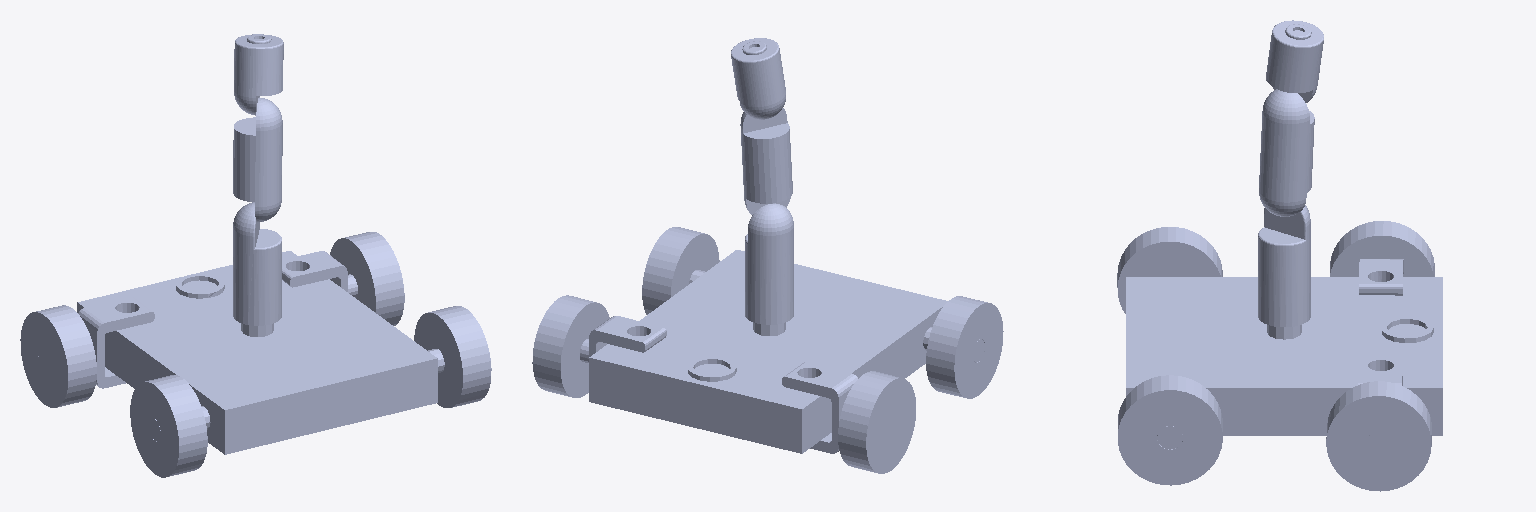
robot.urdf — fire_fight_1:
<?xml version="1.0" ?>
<!-- =================================================================================== -->
<!-- |    This document was autogenerated by xacro from fire_fight_1.xacro             | -->
<!-- |    EDITING THIS FILE BY HAND IS NOT RECOMMENDED                                 | -->
<!-- =================================================================================== -->
<!-- Name your robot here -->
<robot name="fire_fight_1">
  <link name="dummy">
  </link>
  <joint name="dummy_joint" type="fixed">
    <parent link="dummy"/>
    <child link="Chassis"/>
  </joint>
  <link name="Chassis">
    <inertial>
      <origin rpy="0 0 0" xyz="0 -0.0041296 -0.03787"/>
      <mass value="13.365"/>
      <inertia ixx="0.2401" ixy="-2.8219E-17" ixz="-3.2291E-19" iyy="0.17437" iyz="-0.00011945" izz="0.40145"/>
    </inertial>
    <visual>
      <origin rpy="0 0 0" xyz="0 0 0"/>
      <geometry>
        <mesh filename="package://fire_fight_1/meshes/Chassis.STL"/>
      </geometry>
      <material name="">
        <color rgba="0.79216 0.81961 0.93333 1"/>
      </material>
    </visual>
    <collision>
      <origin rpy="0 0 0" xyz="0 0 0"/>
      <geometry>
        <mesh filename="package://fire_fight_1/meshes/Chassis.STL"/>
      </geometry>
    </collision>
  </link>
  <link name="A_link1">
    <inertial>
      <origin rpy="0 0 0" xyz="-0.0018147 0.001304 0.079067"/>
      <mass value="0.70683"/>
      <inertia ixx="0.0018663" ixy="-1.5681E-06" ixz="9.6484E-05" iyy="0.0018653" iyz="-6.9333E-05" izz="0.00050046"/>
    </inertial>
    <visual>
      <origin rpy="0 0 0" xyz="0 0 0"/>
      <geometry>
        <mesh filename="package://fire_fight_1/meshes/A_link1.STL"/>
      </geometry>
      <material name="">
        <color rgba="0.79216 0.81961 0.93333 1"/>
      </material>
    </visual>
    <collision>
      <origin rpy="0 0 0" xyz="0 0 0"/>
      <geometry>
        <mesh filename="package://fire_fight_1/meshes/A_link1.STL"/>
      </geometry>
    </collision>
  </link>
  <joint name="A1" type="revolute">
    <origin rpy="0 0 0" xyz="0 0 0.0254"/>
    <parent link="Chassis"/>
    <child link="A_link1"/>
    <axis xyz="0 0 1"/>
    <limit effort="1000" lower="0" upper="3.14" velocity="1"/>
  </joint>
  <link name="A_link2">
    <inertial>
      <origin rpy="0 0 0" xyz="0.0044859 0.088677 0.0033545"/>
      <mass value="0.66025"/>
      <inertia ixx="0.0015864" ixy="-5.7236E-05" ixz="-1.2367E-08" iyy="0.00045786" iyz="-2.4447E-07" izz="0.0015967"/>
    </inertial>
    <visual>
      <origin rpy="0 0 0" xyz="0 0 0"/>
      <geometry>
        <mesh filename="package://fire_fight_1/meshes/A_link2.STL"/>
      </geometry>
      <material name="">
        <color rgba="0.79216 0.81961 0.93333 1"/>
      </material>
    </visual>
    <collision>
      <origin rpy="0 0 0" xyz="0 0 0"/>
      <geometry>
        <mesh filename="package://fire_fight_1/meshes/A_link2.STL"/>
      </geometry>
    </collision>
  </link>
  <joint name="A2" type="revolute">
    <origin rpy="1.5708 0 0.94776" xyz="0 0 0.17526"/>
    <parent link="A_link1"/>
    <child link="A_link2"/>
    <axis xyz="0 0 1"/>
    <limit effort="1000" lower="-1.57" upper="1.57" velocity="1"/>
  </joint>
  <link name="A_link3">
    <inertial>
      <origin rpy="0 0 0" xyz="-0.0090929 0.061252 0.0021704"/>
      <mass value="0.42671"/>
      <inertia ixx="0.00050673" ixy="3.118E-05" ixz="-6.1988E-06" iyy="0.00030132" iyz="4.1756E-05" izz="0.00051337"/>
    </inertial>
    <visual>
      <origin rpy="0 0 0" xyz="0 0 0"/>
      <geometry>
        <mesh filename="package://fire_fight_1/meshes/A_link3.STL"/>
      </geometry>
      <material name="">
        <color rgba="0.79216 0.81961 0.93333 1"/>
      </material>
    </visual>
    <collision>
      <origin rpy="0 0 0" xyz="0 0 0"/>
      <geometry>
        <mesh filename="package://fire_fight_1/meshes/A_link3.STL"/>
      </geometry>
    </collision>
  </link>
  <joint name="A3" type="revolute">
    <origin rpy="3.1416 0 3.1416" xyz="0.0088546 0.17504 0"/>
    <parent link="A_link2"/>
    <child link="A_link3"/>
    <axis xyz="0 0 1"/>
    <limit effort="1000" lower="-1.57" upper="1.57" velocity="1"/>
  </joint>
  <link name="Holder_1">
    <inertial>
      <origin rpy="0 0 0" xyz="-0.05393 0.0007167 -0.0381"/>
      <mass value="0.3321"/>
      <inertia ixx="0.00054535" ixy="7.1707E-06" ixz="6.4297E-19" iyy="0.0010848" iyz="-1.7651E-20" izz="0.00074013"/>
    </inertial>
    <visual>
      <origin rpy="0 0 0" xyz="0 0 0"/>
      <geometry>
        <mesh filename="package://fire_fight_1/meshes/Holder_1.STL"/>
      </geometry>
      <material name="">
        <color rgba="0.79216 0.81961 0.93333 1"/>
      </material>
    </visual>
    <collision>
      <origin rpy="0 0 0" xyz="0 0 0"/>
      <geometry>
        <mesh filename="package://fire_fight_1/meshes/Holder_1.STL"/>
      </geometry>
    </collision>
  </link>
  <joint name="H1" type="revolute">
    <origin rpy="0 0 0" xyz="-0.1524 0.1397 0"/>
    <parent link="Chassis"/>
    <child link="Holder_1"/>
    <axis xyz="0 0 -1"/>
    <limit effort="1000" lower="-1.75" upper="1.75" velocity="1"/>
  </joint>
  <link name="Wheel">
    <inertial>
      <origin rpy="0 0 0" xyz="0 0 -1.3878E-17"/>
      <mass value="0.86875"/>
      <inertia ixx="0.0015267" ixy="5.1618E-20" ixz="-3.3881E-21" iyy="0.0015267" iyz="-8.1367E-21" izz="0.0026798"/>
    </inertial>
    <visual>
      <origin rpy="0 0 0" xyz="0 0 0"/>
      <geometry>
        <mesh filename="package://fire_fight_1/meshes/Wheel.STL"/>
      </geometry>
      <material name="">
        <color rgba="0.79216 0.81961 0.93333 1"/>
      </material>
    </visual>
    <collision>
      <origin rpy="0 0 0" xyz="0 0 0"/>
      <geometry>
        <mesh filename="package://fire_fight_1/meshes/Wheel.STL"/>
      </geometry>
    </collision>
  </link>
  <joint name="W1" type="continuous">
    <origin rpy="1.5708 0 -1.5841" xyz="-0.12191 0.0016201 -0.0381"/>
    <parent link="Holder_1"/>
    <child link="Wheel"/>
    <axis xyz="0 0 1"/>
  </joint>
  <link name="Holder_2">
    <inertial>
      <origin rpy="0 0 0" xyz="0.053923 -0.0011082 -0.0381"/>
      <mass value="0.3321"/>
      <inertia ixx="0.00054548" ixy="1.1087E-05" ixz="-4.6956E-19" iyy="0.0010847" iyz="6.2287E-20" izz="0.00074013"/>
    </inertial>
    <visual>
      <origin rpy="0 0 0" xyz="0 0 0"/>
      <geometry>
        <mesh filename="package://fire_fight_1/meshes/Holder_2.STL"/>
      </geometry>
      <material name="">
        <color rgba="0.79216 0.81961 0.93333 1"/>
      </material>
    </visual>
    <collision>
      <origin rpy="0 0 0" xyz="0 0 0"/>
      <geometry>
        <mesh filename="package://fire_fight_1/meshes/Holder_2.STL"/>
      </geometry>
    </collision>
  </link>
  <joint name="H2" type="revolute">
    <origin rpy="0 0 0" xyz="0.1524 0.1397 0"/>
    <parent link="Chassis"/>
    <child link="Holder_2"/>
    <axis xyz="0 0 -1"/>
    <limit effort="1000" lower="-1.75" upper="1.75" velocity="1"/>
  </joint>
  <link name="Wheel2">
    <inertial>
      <origin rpy="0 0 0" xyz="0 0 0"/>
      <mass value="0.86875"/>
      <inertia ixx="0.0015267" ixy="6.5227E-20" ixz="2.7105E-20" iyy="0.0015267" iyz="-1.208E-19" izz="0.0026798"/>
    </inertial>
    <visual>
      <origin rpy="0 0 0" xyz="0 0 0"/>
      <geometry>
        <mesh filename="package://fire_fight_1/meshes/Wheel2.STL"/>
      </geometry>
      <material name="">
        <color rgba="0.79216 0.81961 0.93333 1"/>
      </material>
    </visual>
    <collision>
      <origin rpy="0 0 0" xyz="0 0 0"/>
      <geometry>
        <mesh filename="package://fire_fight_1/meshes/Wheel2.STL"/>
      </geometry>
    </collision>
  </link>
  <joint name="W2" type="continuous">
    <origin rpy="1.5708 0 1.5502" xyz="0.12189 -0.0025052 -0.0381"/>
    <parent link="Holder_2"/>
    <child link="Wheel2"/>
    <axis xyz="0 0 1"/>
  </joint>
  <link name="Wheel3">
    <inertial>
      <origin rpy="0 0 0" xyz="0 0 -1.3878E-17"/>
      <mass value="0.86875"/>
      <inertia ixx="0.0015267" ixy="1.0688E-19" ixz="1.1392E-19" iyy="0.0015267" iyz="9.6195E-20" izz="0.0026798"/>
    </inertial>
    <visual>
      <origin rpy="0 0 0" xyz="0 0 0"/>
      <geometry>
        <mesh filename="package://fire_fight_1/meshes/Wheel3.STL"/>
      </geometry>
      <material name="">
        <color rgba="0.79216 0.81961 0.93333 1"/>
      </material>
    </visual>
    <collision>
      <origin rpy="0 0 0" xyz="0 0 0"/>
      <geometry>
        <mesh filename="package://fire_fight_1/meshes/Wheel3.STL"/>
      </geometry>
    </collision>
  </link>
  <joint name="W3" type="continuous">
    <origin rpy="-1.5708 0 1.5708" xyz="-0.254 -0.1651 -0.0381"/>
    <parent link="Chassis"/>
    <child link="Wheel3"/>
    <axis xyz="0 0 1"/>
  </joint>
  <link name="Wheel4">
    <inertial>
      <origin rpy="0 0 0" xyz="-5.5511E-17 5.5511E-17 0"/>
      <mass value="0.86875"/>
      <inertia ixx="0.0015267" ixy="7.1188E-20" ixz="-1.1577E-19" iyy="0.0015267" iyz="6.95E-20" izz="0.0026798"/>
    </inertial>
    <visual>
      <origin rpy="0 0 0" xyz="0 0 0"/>
      <geometry>
        <mesh filename="package://fire_fight_1/meshes/Wheel4.STL"/>
      </geometry>
      <material name="">
        <color rgba="0.79216 0.81961 0.93333 1"/>
      </material>
    </visual>
    <collision>
      <origin rpy="0 0 0" xyz="0 0 0"/>
      <geometry>
        <mesh filename="package://fire_fight_1/meshes/Wheel4.STL"/>
      </geometry>
    </collision>
  </link>
  <joint name="W4" type="continuous">
    <origin rpy="1.5708 0 1.5708" xyz="0.254 -0.1651 -0.0381"/>
    <parent link="Chassis"/>
    <child link="Wheel4"/>
    <axis xyz="0 0 1"/>
  </joint>
  <link name="base_laser">
    <inertial>
      <origin rpy="0 0 0" xyz="-0.00029774 0.0066667 0.00013047"/>
      <mass value="0.15717"/>
      <inertia ixx="6.7885E-05" ixy="-1.3987E-07" ixz="-8.1554E-07" iyy="0.00013173" iyz="-9.0932E-08" izz="7.1972E-05"/>
    </inertial>
    <visual>
      <origin rpy="0 0 0" xyz="0 0 0"/>
      <geometry>
        <mesh filename="package://fire_fight_1/meshes/ydlidar.dae"/>
      </geometry>
      <material name="">
        <color rgba="0.64706 0.61961 0.58824 1"/>
      </material>
    </visual>
    <collision>
      <origin rpy="0 0 0" xyz="0 0 0"/>
      <geometry>
        <mesh filename="package://fire_fight_1/meshes/ydlidar.dae"/>
      </geometry>
    </collision>
  </link>
  <link name="laser_frame">
    <inertial>
      <origin rpy="0 0 0" xyz="-0.00036659 0.00064155 -0.00027052"/>
      <mass value="0.25482"/>
      <inertia ixx="8.9194E-05" ixy="1.8116E-07" ixz="3.6435E-08" iyy="0.00018279" iyz="2.423E-07" izz="0.00011103"/>
    </inertial>
    <visual>
      <origin rpy="0 0 0" xyz="0 0 0"/>
      <geometry>
        <mesh filename="package://fire_fight_1/meshes/ydlidar.dae"/>
      </geometry>
      <material name="">
        <color rgba="0.64706 0.61961 0.58824 1"/>
      </material>
    </visual>
    <collision>
      <origin rpy="0 0 0" xyz="0 0 0"/>
      <geometry>
        <mesh filename="package://fire_fight_1/meshes/ydlidar.dae"/>
      </geometry>
    </collision>
  </link>
  <joint name="laser_joint" type="fixed">
    <origin rpy="0 0 0" xyz="0 0 0.03172"/>
    <parent link="base_laser"/>
    <child link="laser_frame"/>
    <axis xyz="0 0 0"/>
  </joint>
  <transmission name="RWD_left">
    <type>transmission_interface/SimpleTransmission</type>
    <joint name="W3">
      <hardwareInterface>hardware_interface/VelocityJointInterface</hardwareInterface>
    </joint>
    <actuator name="RWD_left_Motor">
      <mechanicalReduction>50</mechanicalReduction>
      <hardwareInterface>hardware_interface/VelocityJointInterface</hardwareInterface>
    </actuator>
  </transmission>
  <transmission name="RWD_Right">
    <type>transmission_interface/SimpleTransmission</type>
    <joint name="W4">
      <hardwareInterface>hardware_interface/VelocityJointInterface</hardwareInterface>
    </joint>
    <actuator name="RWD_Right_Motor">
      <mechanicalReduction>50</mechanicalReduction>
      <hardwareInterface>hardware_interface/VelocityJointInterface</hardwareInterface>
    </actuator>
  </transmission>
  <transmission name="FWD_Right">
    <type>transmission_interface/SimpleTransmission</type>
    <joint name="W2">
      <hardwareInterface>hardware_interface/EffortJointInterface</hardwareInterface>
    </joint>
    <actuator name="FWD_Right_Motor">
      <mechanicalReduction>50</mechanicalReduction>
      <hardwareInterface>hardware_interface/EffortJointInterface</hardwareInterface>
    </actuator>
  </transmission>
  <transmission name="FWD_Left">
    <type>transmission_interface/SimpleTransmission</type>
    <joint name="W1">
      <hardwareInterface>hardware_interface/EffortJointInterface</hardwareInterface>
    </joint>
    <actuator name="FWD_Left_Motor">
      <mechanicalReduction>50</mechanicalReduction>
      <hardwareInterface>hardware_interface/EffortJointInterface</hardwareInterface>
    </actuator>
  </transmission>
  <transmission name="Steer_Left">
    <type>transmission_interface/SimpleTransmission</type>
    <joint name="H1">
      <hardwareInterface>hardware_interface/PositionJointInterface</hardwareInterface>
    </joint>
    <actuator name="H1_Motor">
      <mechanicalReduction>50</mechanicalReduction>
      <hardwareInterface>hardware_interface/PositionJointInterface</hardwareInterface>
    </actuator>
  </transmission>
  <transmission name="Steer_Right">
    <type>transmission_interface/SimpleTransmission</type>
    <joint name="H2">
      <hardwareInterface>hardware_interface/PositionJointInterface</hardwareInterface>
    </joint>
    <actuator name="H2_Motor">
      <mechanicalReduction>50</mechanicalReduction>
      <hardwareInterface>hardware_interface/PositionJointInterface</hardwareInterface>
    </actuator>
  </transmission>
  <transmission name="Arm_1_man">
    <type>transmission_interface/SimpleTransmission</type>
    <joint name="A1">
      <hardwareInterface>hardware_interface/PositionJointInterface</hardwareInterface>
    </joint>
    <actuator name="A1_motor">
      <mechanicalReduction>50</mechanicalReduction>
      <hardwareInterface>hardware_interface/PositionJointInterface</hardwareInterface>
    </actuator>
  </transmission>
  <transmission name="Arm_2_man">
    <type>transmission_interface/SimpleTransmission</type>
    <joint name="A2">
      <hardwareInterface>hardware_interface/PositionJointInterface</hardwareInterface>
    </joint>
    <actuator name="A2_motor">
      <mechanicalReduction>50</mechanicalReduction>
      <hardwareInterface>hardware_interface/PositionJointInterface</hardwareInterface>
    </actuator>
  </transmission>
  <transmission name="Arm_3_man">
    <type>transmission_interface/SimpleTransmission</type>
    <joint name="A3">
      <hardwareInterface>hardware_interface/PositionJointInterface</hardwareInterface>
    </joint>
    <actuator name="A3_motor">
      <mechanicalReduction>50</mechanicalReduction>
      <hardwareInterface>hardware_interface/PositionJointInterface</hardwareInterface>
    </actuator>
  </transmission>
  <!-- Add your gazebo sensors here -->
  <gazebo reference="base_laser">
    <!-- <gravity>true</gravity> -->
    <!-- Gazebo has fixed set of Sensors types. Check them out here <> -->
    <sensor name="laser" type="ray">
      <!-- Add in your sensor characteristics -->
      <pose> 0 0 0 0 0 0 </pose>
      <visualise>true</visualise>
      <update_rate>40</update_rate>
      <!-- <always_on>true</always_on> -->
      <ray>
        <scan>
          <horizontal>
            <samples>720</samples>
            <resolution>1</resolution>
            <min_angle>-1.570796</min_angle>
            <max_angle>1.570796</max_angle>
          </horizontal>
        </scan>
        <range>
          <min>0.10</min>
          <max>30.0</max>
          <resolution>0.01</resolution>
        </range>
        <noise>
          <type>gaussian</type>
          <mean>0.0</mean>
          <stddev>0.01</stddev>
        </noise>
      </ray>
      <plugin filename="libgazebo_ros_laser.so" name="gazebo_ros_head_hokuyo_controller">
        <!-- Use topic name as /my_robot/scan -->
        <topicName>/fire_fight_1/scan</topicName>
        <frameName>laser_frame</frameName>
      </plugin>
    </sensor>
  </gazebo>
  <!--  Gazebo plugin for control here is already added for you -->
  <gazebo>
    <plugin filename="libgazebo_ros_control.so" name="gazebo_ros_control">
      <robotNamespace>/fire_fight_1</robotNamespace>
      <robotSimType>gazebo_ros_control/DefaultRobotHWSim</robotSimType>
      <legacyModeNS>true</legacyModeNS>
    </plugin>
  </gazebo>
  <!-- Create a joint between your robot and sensor -->
  <joint name="laser_frame" type="fixed">
    <parent link="Chassis"/>
    <child link="base_laser"/>
    <origin rpy="0.0 0.0 0" xyz="0 0 0.28"/>
  </joint>
</robot>

--- Facts derived from the render (not from the file) ---
3 views of the same robot in one strip: view 1: azimuth 30°, elevation 25°; view 2: azimuth 150°, elevation 25°; view 3: azimuth 270°, elevation 25° (orthographic).
Model fire_fight_1 with 13 links and 12 joints (5 revolute, 4 continuous, 3 fixed), rooted at dummy, posed all joints at 0.
Links seen in each view (by area): view 1: Chassis, Wheel3, Wheel, Wheel4, A_link1, A_link2, Wheel2, A_link3, Holder_1, Holder_2; view 2: Chassis, Wheel, Wheel3, A_link1, Wheel2, A_link2, Wheel4, A_link3, Holder_1, Holder_2; view 3: Chassis, Wheel2, Wheel4, A_link2, A_link1, Wheel3, Wheel, A_link3, Holder_1, Holder_2.
Link boxes in pixels (x1=…): Chassis: x1=77, y1=251, x2=444, y2=454; Wheel3: x1=130, y1=375, x2=207, y2=477; Wheel: x1=20, y1=305, x2=96, y2=407; Wheel4: x1=414, y1=306, x2=491, y2=407; A_link1: x1=233, y1=202, x2=281, y2=325; A_link2: x1=233, y1=97, x2=282, y2=221; Wheel2: x1=330, y1=232, x2=404, y2=325; A_link3: x1=234, y1=34, x2=283, y2=115; Holder_1: x1=39, y1=297, x2=154, y2=388; Holder_2: x1=282, y1=251, x2=357, y2=297; Chassis: x1=589, y1=250, x2=984, y2=453; Wheel: x1=838, y1=371, x2=915, y2=473; Wheel3: x1=926, y1=296, x2=1003, y2=398; A_link1: x1=745, y1=203, x2=793, y2=324; Wheel2: x1=532, y1=295, x2=609, y2=397; A_link2: x1=740, y1=108, x2=792, y2=214; Wheel4: x1=642, y1=227, x2=719, y2=314; A_link3: x1=731, y1=38, x2=785, y2=119; Holder_1: x1=782, y1=362, x2=897, y2=453; Holder_2: x1=580, y1=316, x2=666, y2=363; Chassis: x1=1126, y1=277, x2=1442, y2=449; Wheel2: x1=1326, y1=381, x2=1431, y2=491; Wheel4: x1=1118, y1=375, x2=1222, y2=485; A_link2: x1=1259, y1=89, x2=1314, y2=216; A_link1: x1=1258, y1=205, x2=1310, y2=326; Wheel3: x1=1117, y1=227, x2=1222, y2=313; Wheel: x1=1330, y1=221, x2=1434, y2=276; A_link3: x1=1266, y1=20, x2=1323, y2=102; Holder_1: x1=1359, y1=259, x2=1403, y2=295; Holder_2: x1=1358, y1=358, x2=1402, y2=455.
Size in the robot's own frame: 0.602 by 0.4699 by 0.6053 metres.
Meshes: 11 distinct files referenced, 10 mesh visuals loaded (10 binary STL); not drawn: 2 (reference not matched to a file when rendering).
